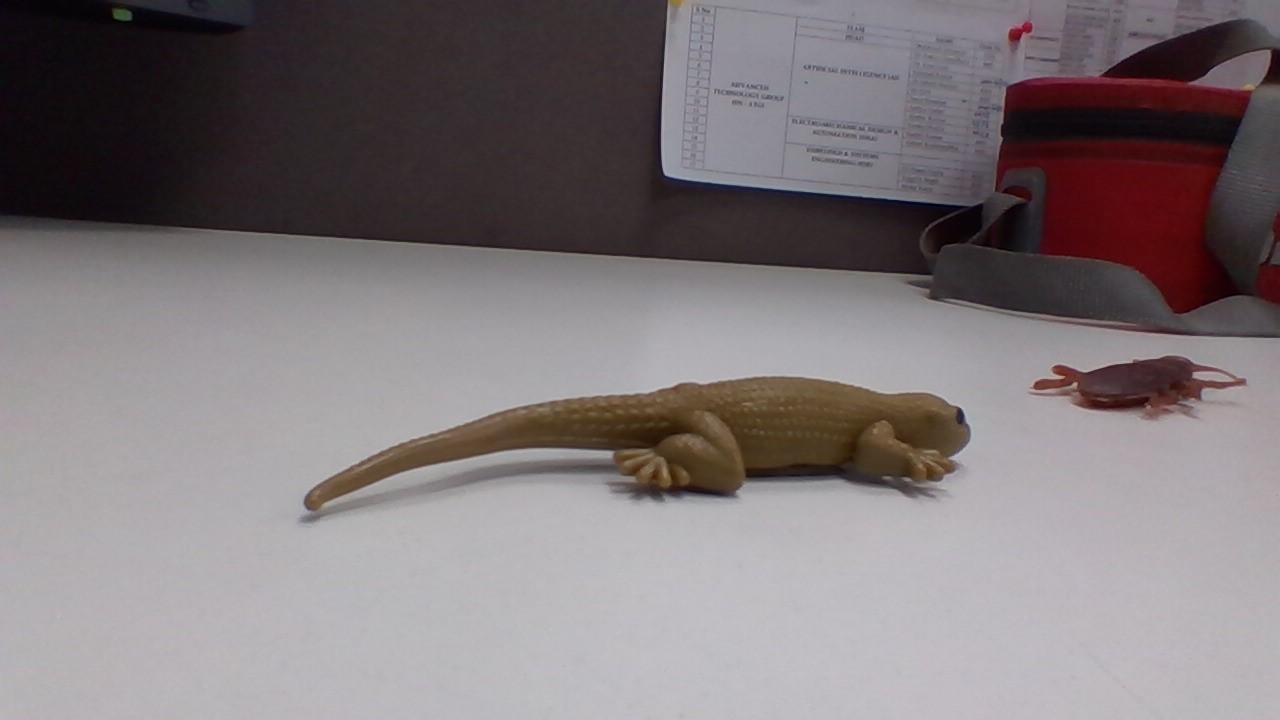cockroach: (1022, 350, 1250, 421)
lizard: (290, 381, 971, 537)
